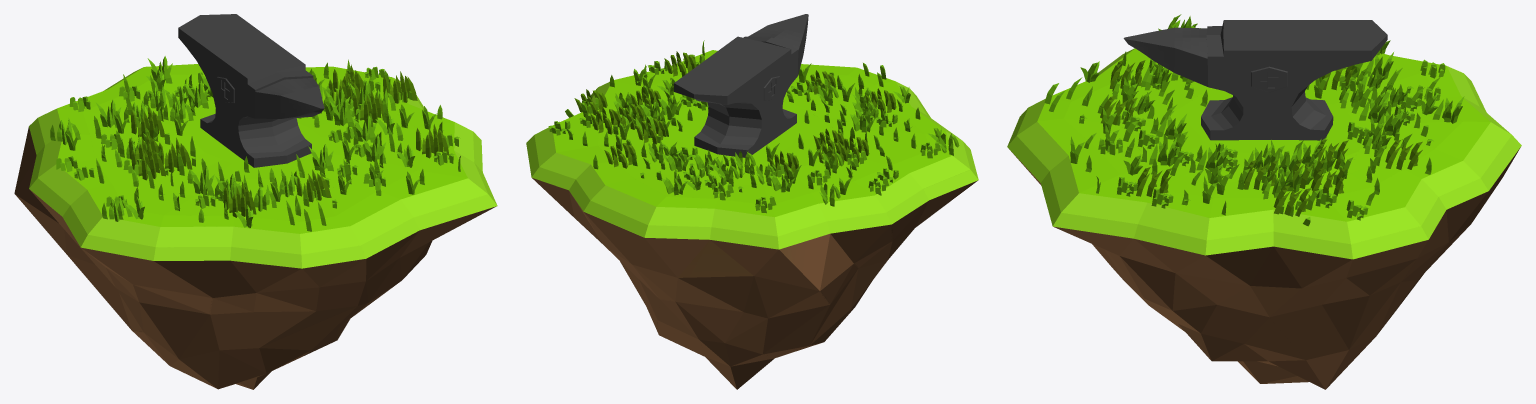
Rendered from anvil.glb.
3 views of the same model, side by side, from view 1: azimuth 30°, elevation 25°; view 2: azimuth 150°, elevation 25°; view 3: azimuth 270°, elevation 25° (orthographic). The views are drawn at different scales.
Parts seen in each view (by area): view 1: island, Cube, GrassBunch7.005, GrassBunch7.001, GrassBunch7.012, GrassBunch7.002, GrassBunch7.010, GrassBunch7.006, GrassBunch7.013, GrassBunch7.007, GrassBunch1.002; view 2: island, Cube, GrassBunch7.004, GrassBunch7.003, GrassBunch7.009, GrassBunch7.001, GrassBunch7.005, GrassBunch7.002, GrassBunch7.010; view 3: island, Cube, GrassBunch7.004, GrassBunch7.002, GrassBunch7.001, GrassBunch7.003, GrassBunch7.007, GrassBunch7.006, GrassBunch7.005, GrassBunch4.008.
Part boxes in pixels (bbox=[...]): island: bbox=[14, 64, 497, 389]; Cube: bbox=[178, 14, 324, 167]; GrassBunch7.005: bbox=[223, 181, 256, 217]; GrassBunch7.001: bbox=[416, 124, 448, 158]; GrassBunch7.012: bbox=[131, 144, 165, 180]; GrassBunch7.002: bbox=[383, 71, 417, 103]; GrassBunch7.010: bbox=[131, 105, 164, 140]; GrassBunch7.006: bbox=[296, 169, 331, 202]; GrassBunch7.013: bbox=[158, 137, 192, 172]; GrassBunch7.007: bbox=[353, 89, 383, 123]; GrassBunch1.002: bbox=[102, 196, 132, 221]; island: bbox=[526, 50, 978, 389]; Cube: bbox=[674, 14, 808, 157]; GrassBunch7.004: bbox=[604, 142, 636, 168]; GrassBunch7.003: bbox=[590, 107, 621, 134]; GrassBunch7.009: bbox=[635, 117, 666, 144]; GrassBunch7.001: bbox=[664, 51, 696, 76]; GrassBunch7.005: bbox=[865, 88, 896, 113]; GrassBunch7.002: bbox=[574, 89, 607, 115]; GrassBunch7.010: bbox=[768, 151, 798, 178]; island: bbox=[1007, 48, 1521, 389]; Cube: bbox=[1123, 20, 1387, 140]; GrassBunch7.004: bbox=[1385, 140, 1422, 169]; GrassBunch7.002: bbox=[1273, 185, 1311, 216]; GrassBunch7.001: bbox=[1136, 167, 1172, 197]; GrassBunch7.003: bbox=[1311, 167, 1346, 196]; GrassBunch7.007: bbox=[1243, 160, 1278, 189]; GrassBunch7.006: bbox=[1100, 95, 1138, 125]; GrassBunch7.005: bbox=[1109, 60, 1145, 88]; GrassBunch4.008: bbox=[1149, 137, 1177, 166].
Bounding box in the file's own units: 0.96 × 0.7433 × 0.9695.
4 materials, 1 textured.
